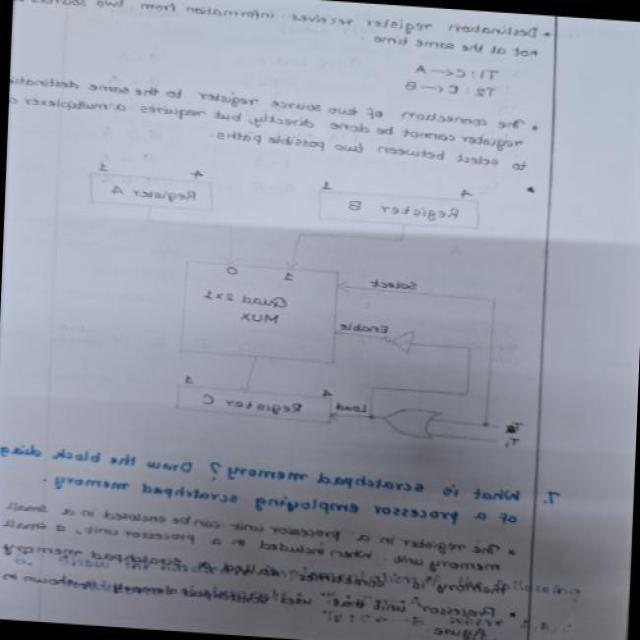Figure Detection - v3 Dataset Version2: (70, 148, 539, 456)
